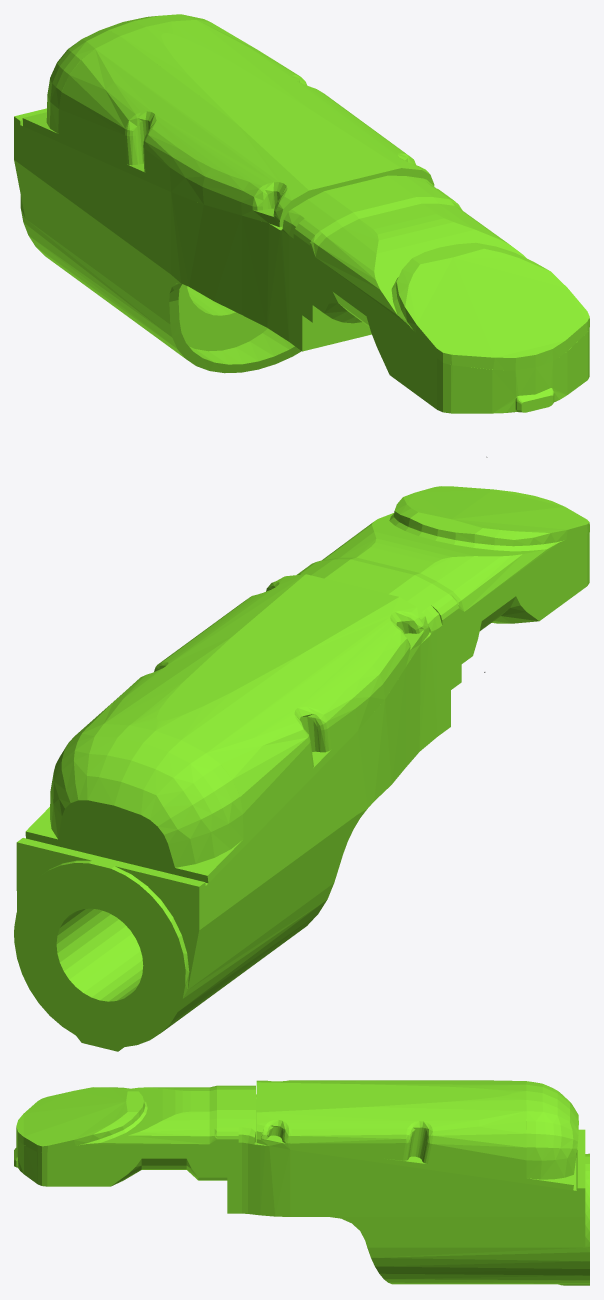
3 renders of one model, top to bottom at view 1: azimuth 30°, elevation 25°; view 2: azimuth 150°, elevation 25°; view 3: azimuth 270°, elevation 25°, orthographic. The views are drawn at different scales.
Parts seen in each view (by area): view 1: node; view 2: node; view 3: node.
Part boxes in pixels (x1,y1,x2,y2): node: [14, 14, 589, 457]; node: [14, 486, 589, 1051]; node: [14, 1080, 589, 1285].
Bounding box in the file's own units: 120 × 178 × 498.
